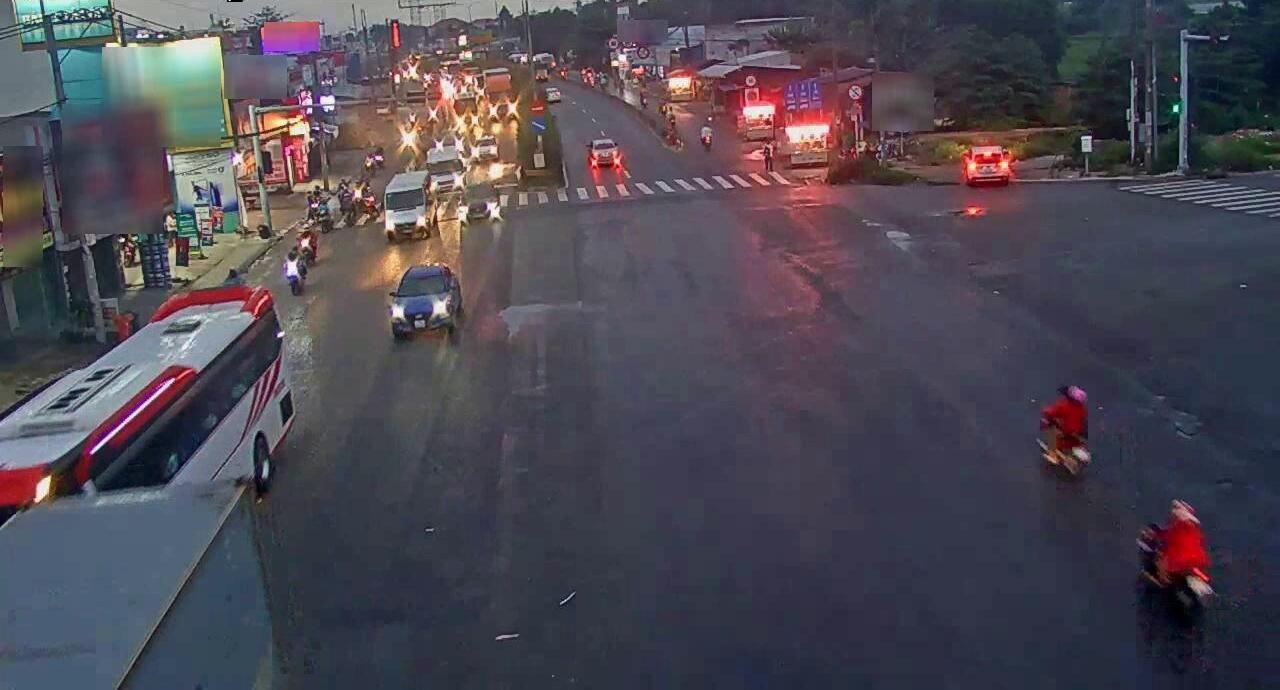xe buyt: (0, 292, 332, 563)
xe container: (0, 398, 330, 690)
xe hoi: (395, 262, 456, 332)
xe may: (1128, 515, 1220, 637), (1031, 377, 1094, 476)
